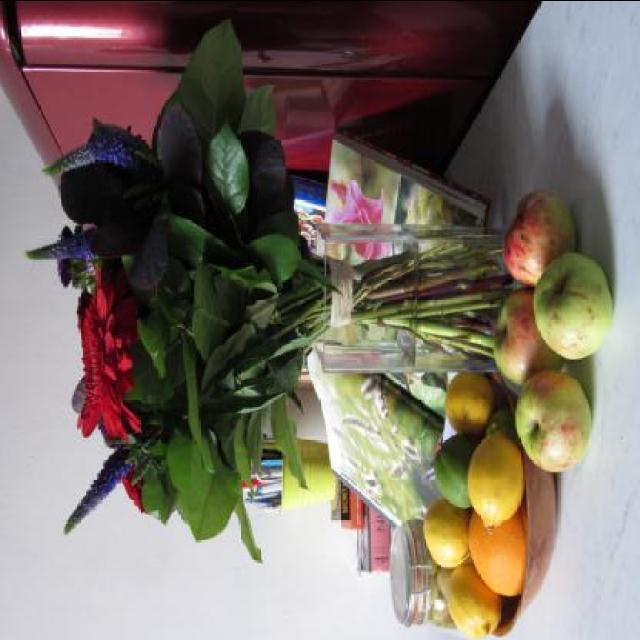Apple pie: (535, 252, 613, 360), (512, 363, 590, 468), (503, 190, 579, 288), (492, 292, 564, 382)
